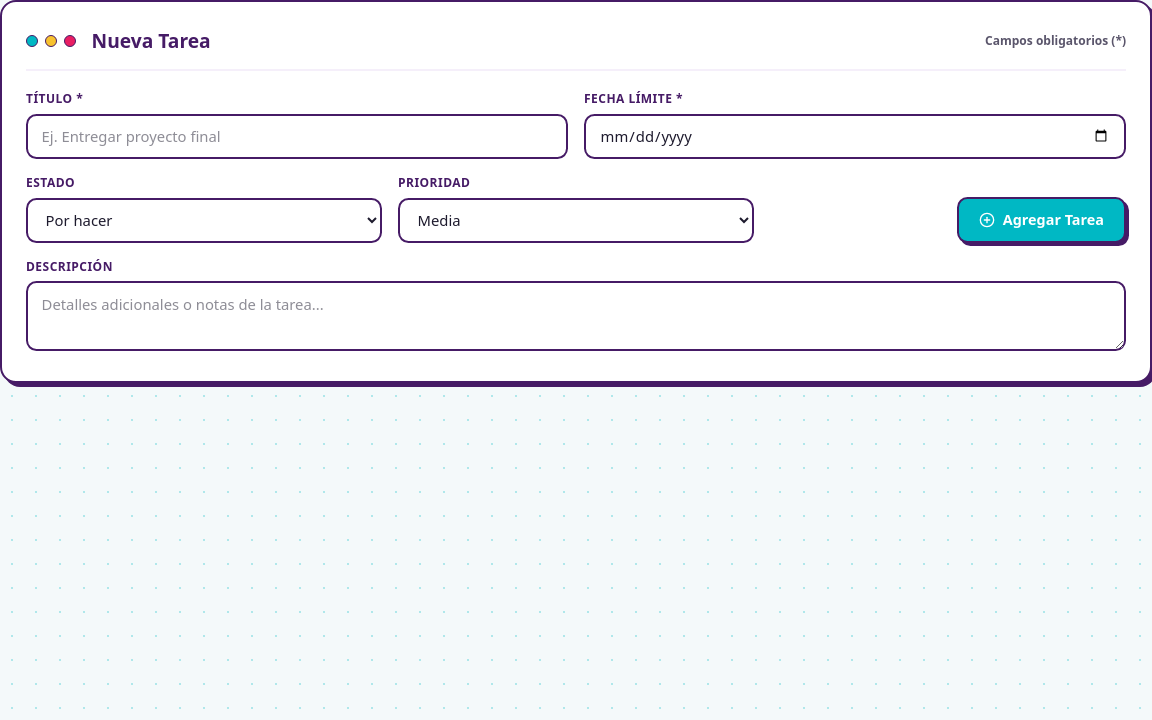
Test case: TaskForm Component › limpia los campos después de agregar una tarea válida
Type "Nueva tarea de prueba" into the field labelled "Título *" at x=297, y=136, box [26,114,568,159]
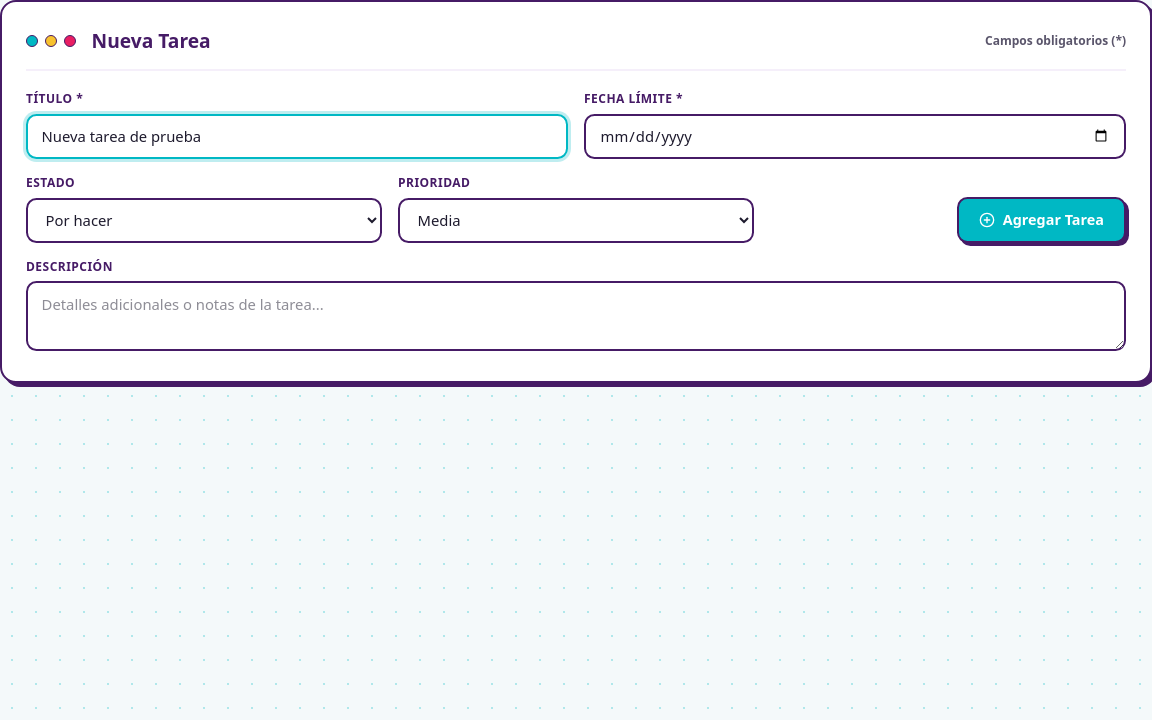
Type "2026-11-25" into the date field labelled "Fecha límite *" at x=855, y=136, box [584,114,1126,159]
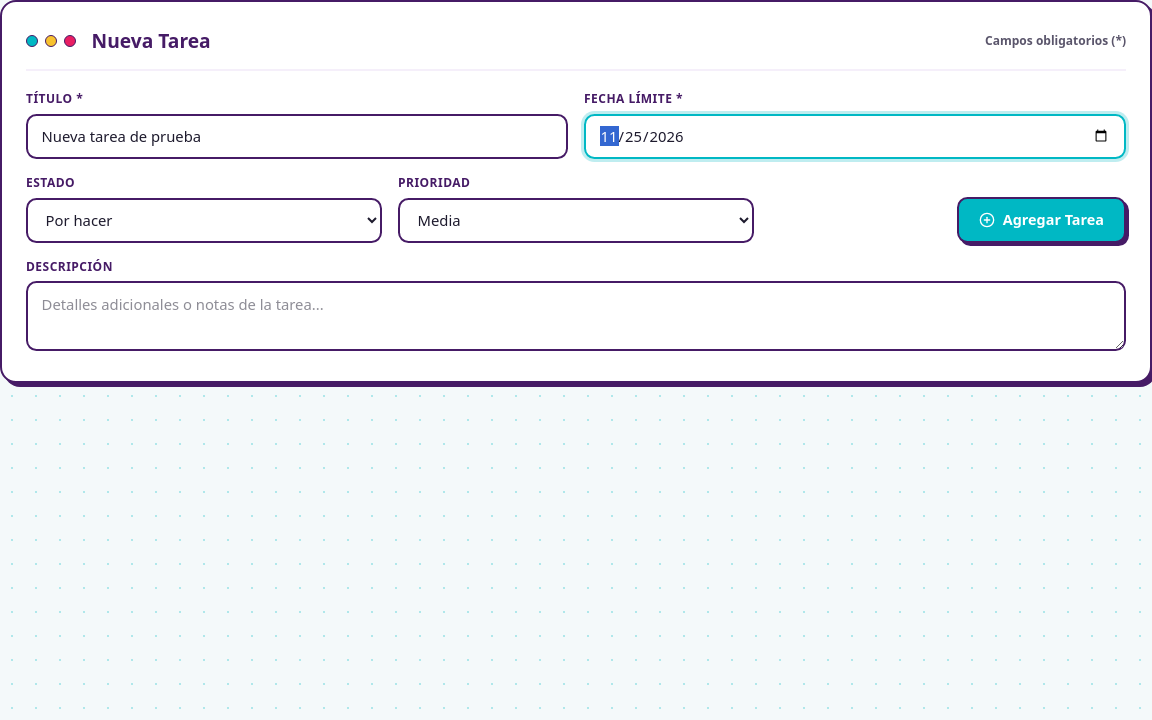
Click the button "Agregar Tarea" at x=1041, y=220, box [957,197,1126,243]
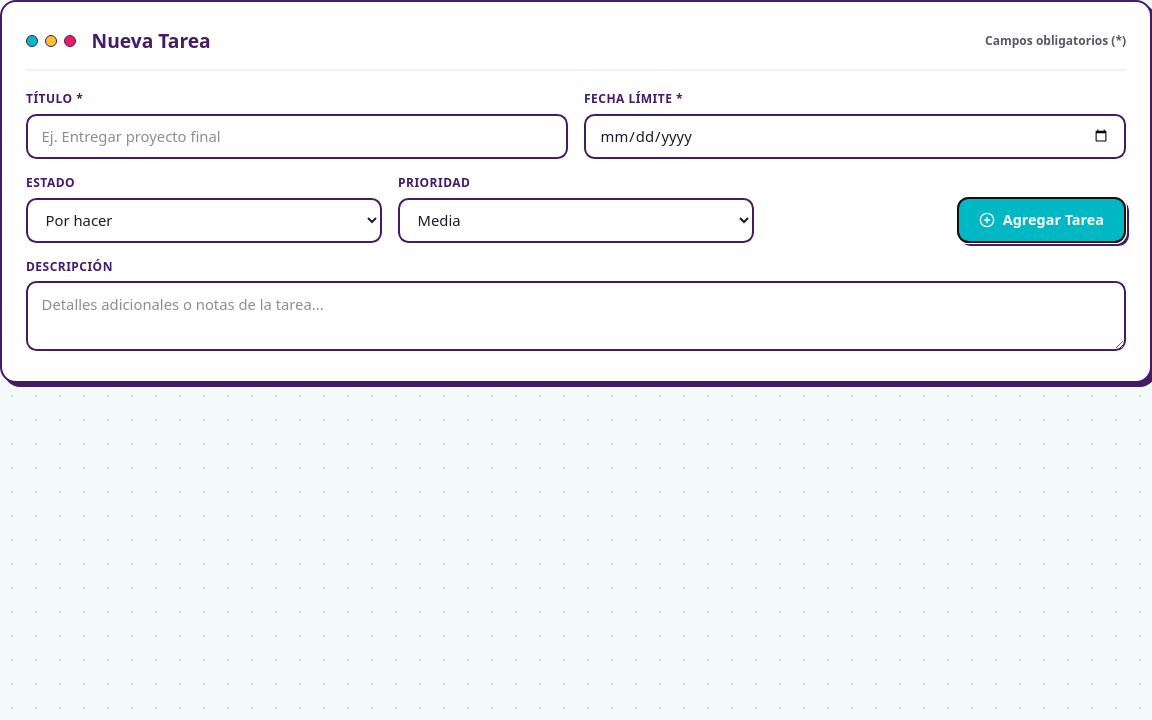
expect the field labelled "Título *" is empty: met, box [26,114,568,159]
